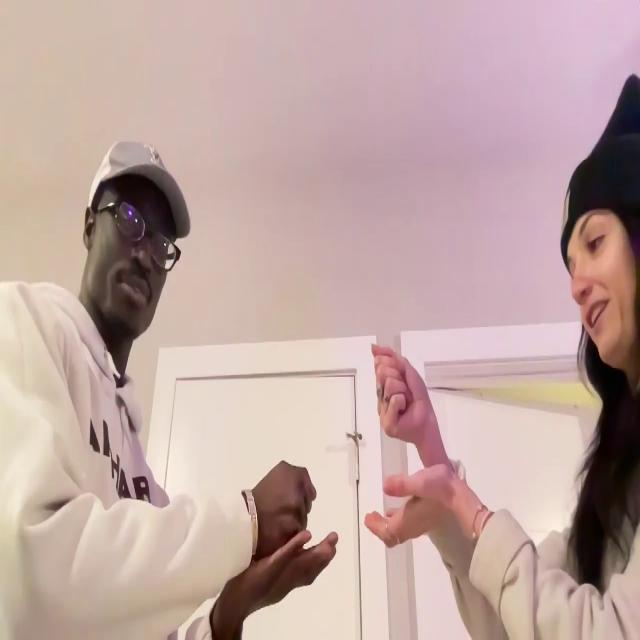Rock: (370, 344, 430, 447), (258, 458, 316, 557)
